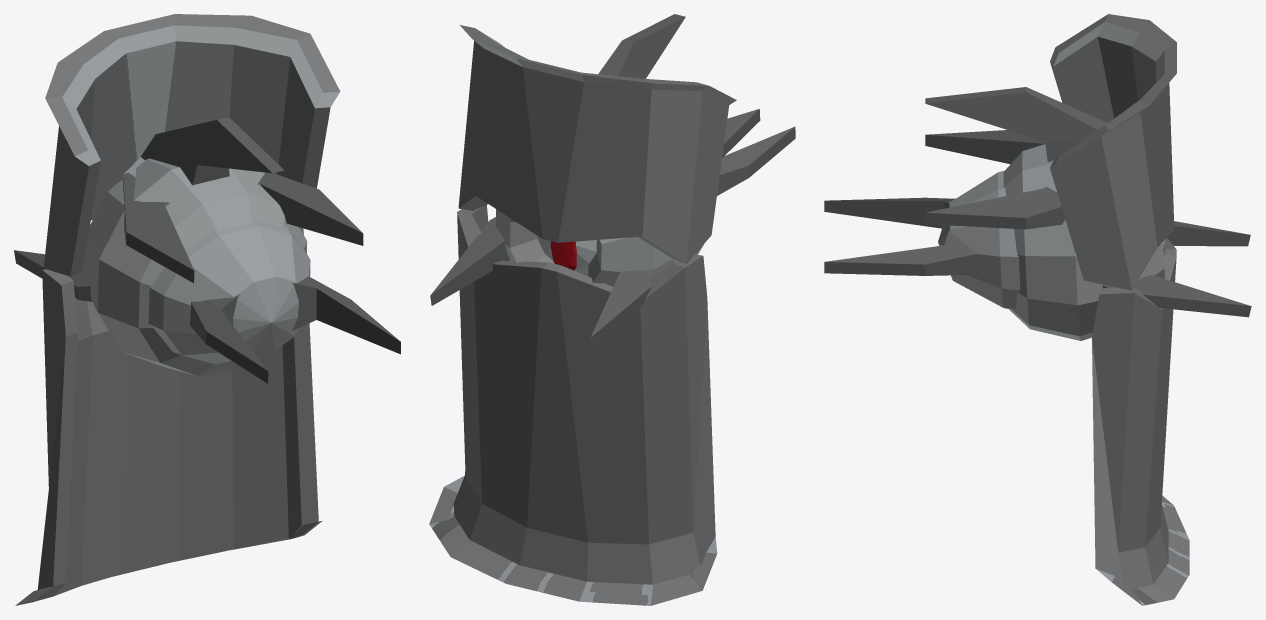
File: Hover_Riot.gltf
3 renders of one model, left to right at view 1: azimuth 30°, elevation 25°; view 2: azimuth 150°, elevation 25°; view 3: azimuth 270°, elevation 25°, orthographic. The views are drawn at different scales.
Visible parts, largest first — view 1: sphere; view 2: sphere; view 3: sphere.
Part boxes in pixels (left/top/right/bottom): sphere: left=14, top=14, right=400, bottom=605; sphere: left=429, top=14, right=795, bottom=605; sphere: left=824, top=14, right=1251, bottom=605.
Size of the model in its own units: 1.51 by 2.73 by 2.12.
Materials: 1 (1 with a texture image).
